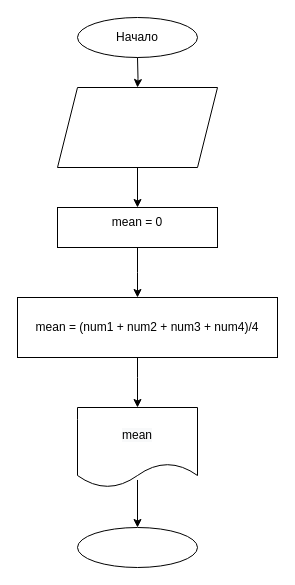
Image size: 295x585. Some labels were removed from this diagram. Each missing label, with the centre of its shape:
num1 num2 num3 num4: the point at 137,127
Конец: the point at 137,547
